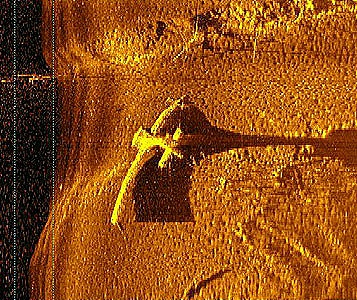aircraft: (109, 96, 193, 225)
